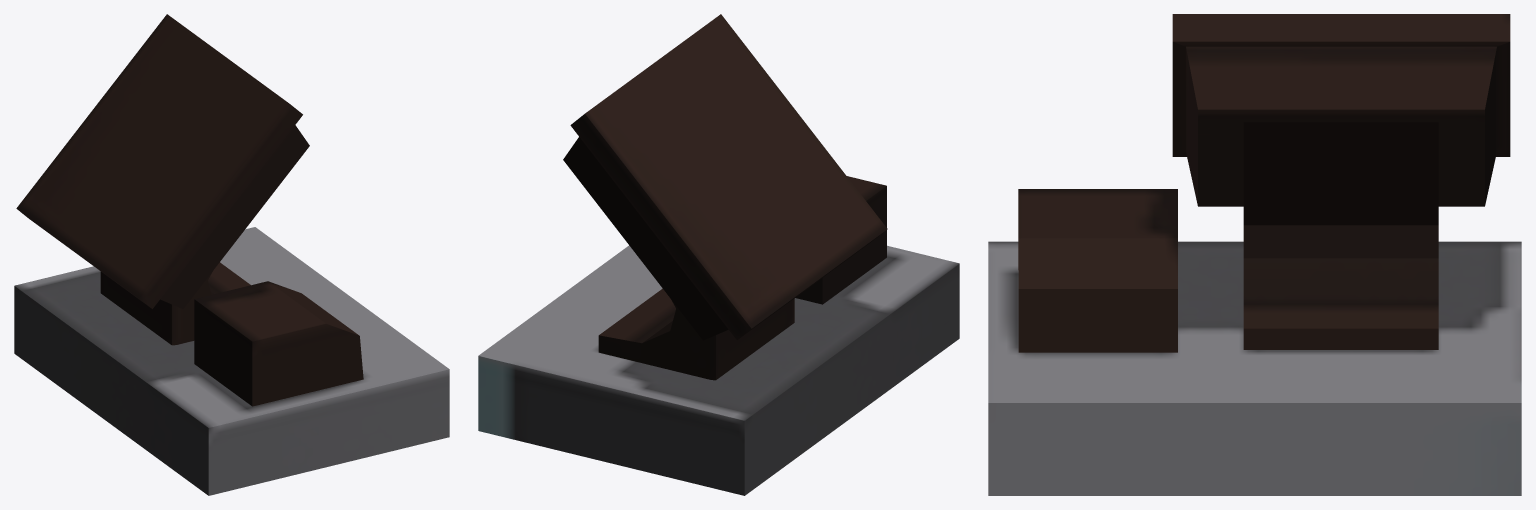
The model's file is Tx_prop_cashier register_1.fbx.
3 renders of one model, left to right at view 1: azimuth 30°, elevation 25°; view 2: azimuth 150°, elevation 25°; view 3: azimuth 270°, elevation 25°, orthographic. The views are drawn at different scales.
Parts seen in each view (by area): view 1: Tx_prop_cashier_register_10; view 2: Tx_prop_cashier_register_10; view 3: Tx_prop_cashier_register_10.
Boxes of the visible parts, bbox=[...] form: Tx_prop_cashier_register_10: bbox=[14, 14, 449, 495]; Tx_prop_cashier_register_10: bbox=[478, 14, 959, 495]; Tx_prop_cashier_register_10: bbox=[988, 14, 1521, 495].
Bounding box in the file's own units: 2.81 × 3.39 × 3.9.
Materials: 1 (1 with a texture image).
